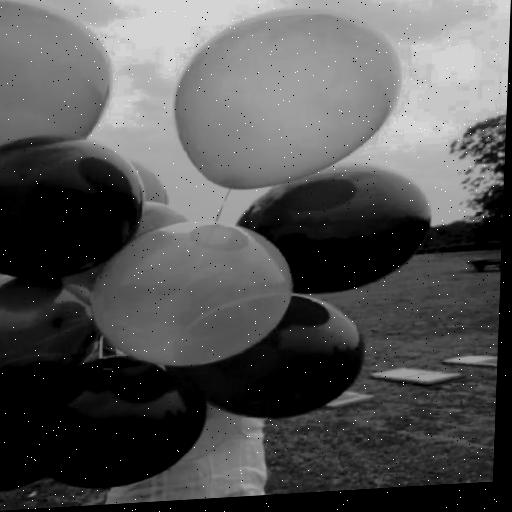balloon: (167, 0, 412, 201), (81, 212, 301, 374), (230, 156, 442, 301), (164, 286, 370, 425), (21, 349, 211, 492), (0, 124, 151, 284), (0, 0, 121, 153), (0, 263, 112, 423), (0, 398, 61, 504)
